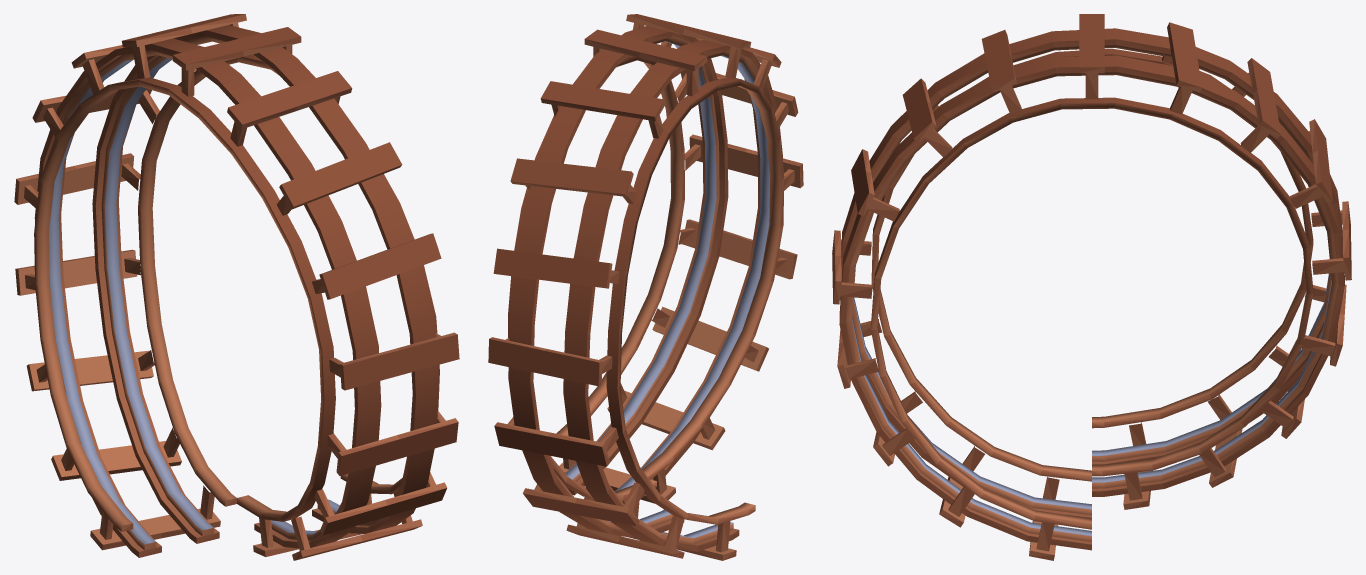
Rendered from coaster_coaster_wood_looping.glb.
3 renders of one model, left to right at view 1: azimuth 30°, elevation 25°; view 2: azimuth 150°, elevation 25°; view 3: azimuth 270°, elevation 25°, orthographic. The views are drawn at different scales.
Visible parts, largest first — view 1: coaster_coaster_wood_looping; view 2: coaster_coaster_wood_looping; view 3: coaster_coaster_wood_looping.
Boxes of the visible parts, box(x1,y1,x2,y2) form: coaster_coaster_wood_looping: box(14, 14, 459, 560); coaster_coaster_wood_looping: box(488, 14, 803, 560); coaster_coaster_wood_looping: box(832, 14, 1351, 560).
Size of the model in its own units: 2 by 4.09 by 4.11.
